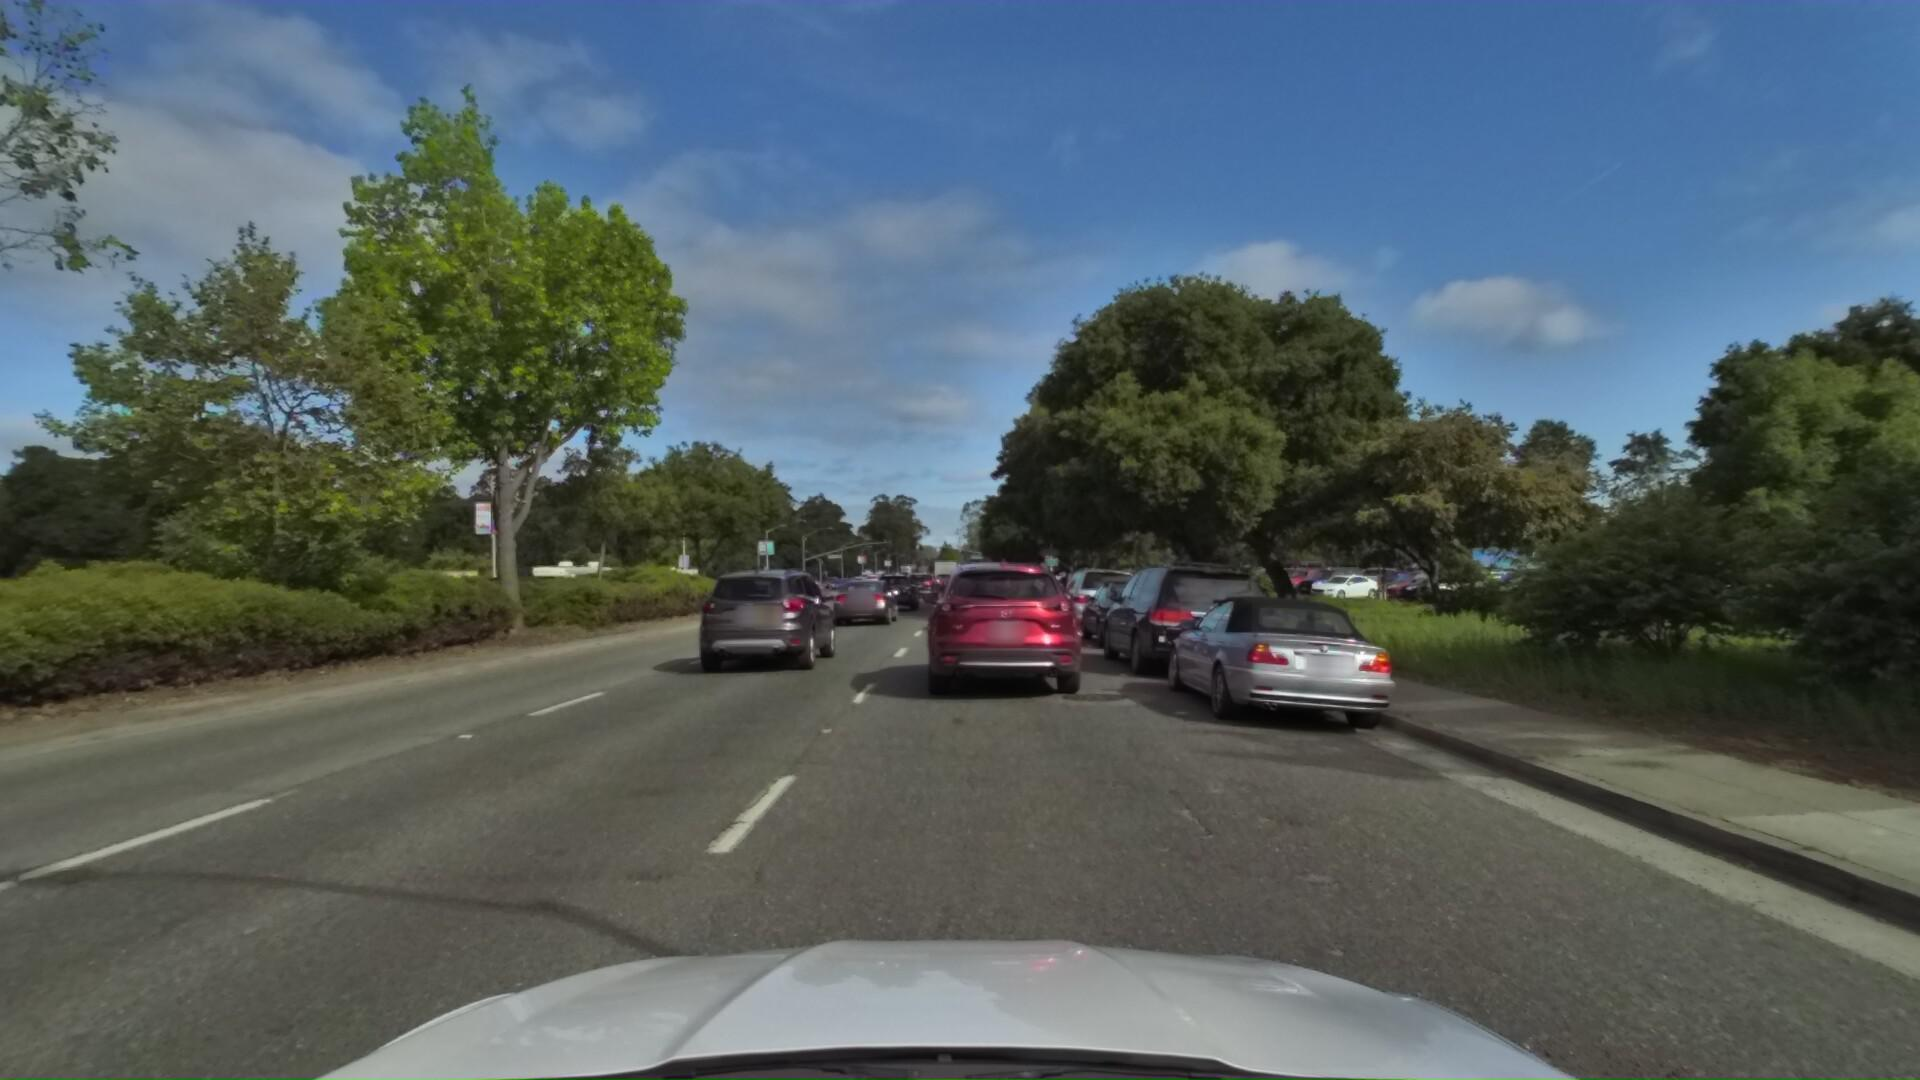car: (1153, 578, 1412, 742), (913, 550, 1098, 707), (1093, 545, 1278, 684), (686, 562, 844, 679), (1071, 568, 1192, 650), (1050, 556, 1149, 636), (945, 579, 1025, 640), (827, 575, 901, 632), (864, 571, 920, 615), (943, 572, 996, 611), (1011, 570, 1048, 597), (902, 571, 938, 599)
other_vehicle: (520, 553, 621, 613)
truck: (342, 560, 485, 630)
